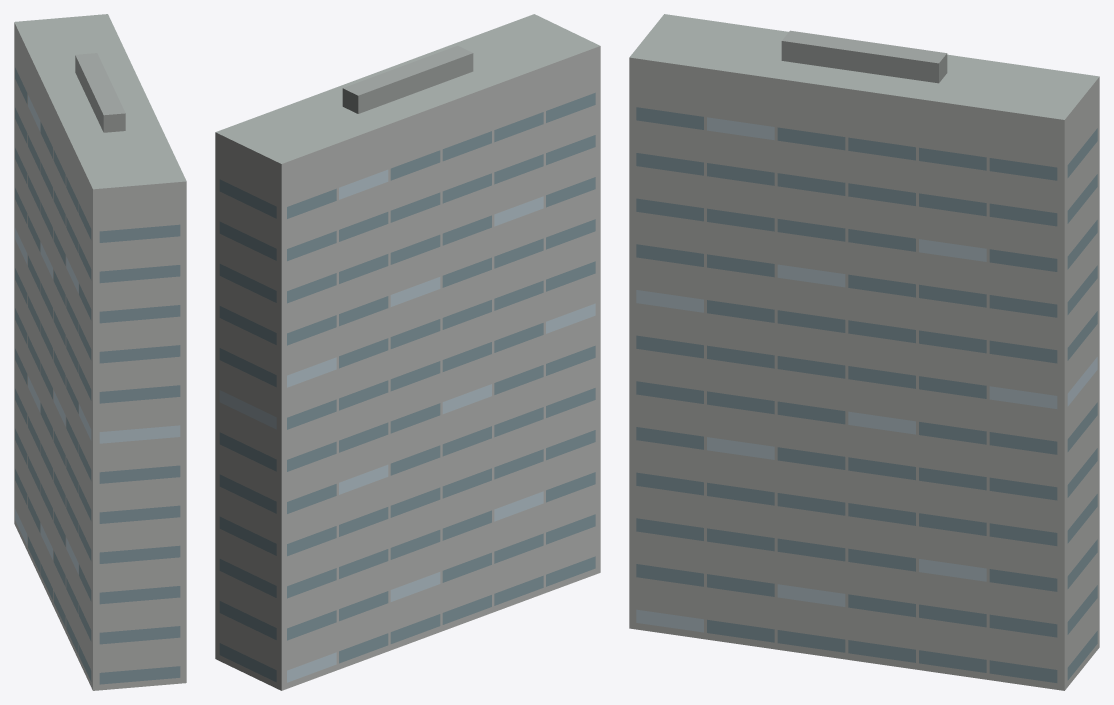
Rendered from fallback-jamsil-els-143.glb.
3 views of the same model, side by side, from view 1: azimuth 30°, elevation 25°; view 2: azimuth 150°, elevation 25°; view 3: azimuth 270°, elevation 25° (orthographic). The views are drawn at different scales.
Parts seen in each view (by area): view 1: fallback-jamsil-els-143; view 2: fallback-jamsil-els-143; view 3: fallback-jamsil-els-143.
Part boxes in pixels (left/top/right/bottom): fallback-jamsil-els-143: left=14, top=14, right=186, bottom=690; fallback-jamsil-els-143: left=215, top=14, right=600, bottom=690; fallback-jamsil-els-143: left=629, top=14, right=1099, bottom=690.
Size of the model in its own units: 27.32 by 71 by 51.22.
